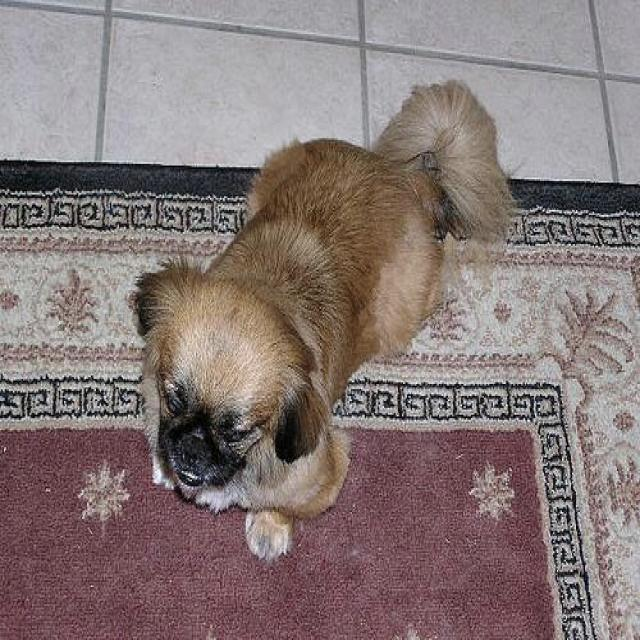pekinese: (130, 79, 520, 558)
